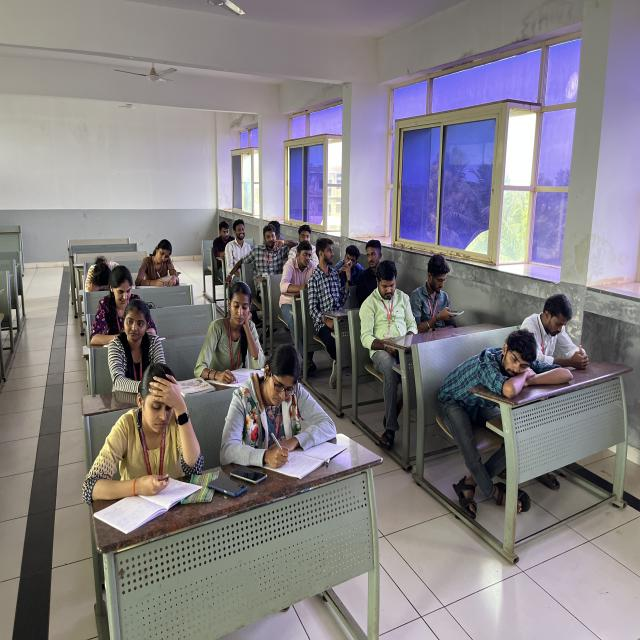Reading: (116, 362, 203, 528), (195, 278, 267, 384)
Sleeping: (445, 316, 547, 426), (81, 239, 117, 293)
Using Phone: (410, 240, 471, 336), (310, 228, 357, 309)
Writing: (234, 351, 344, 468), (136, 222, 184, 298)
